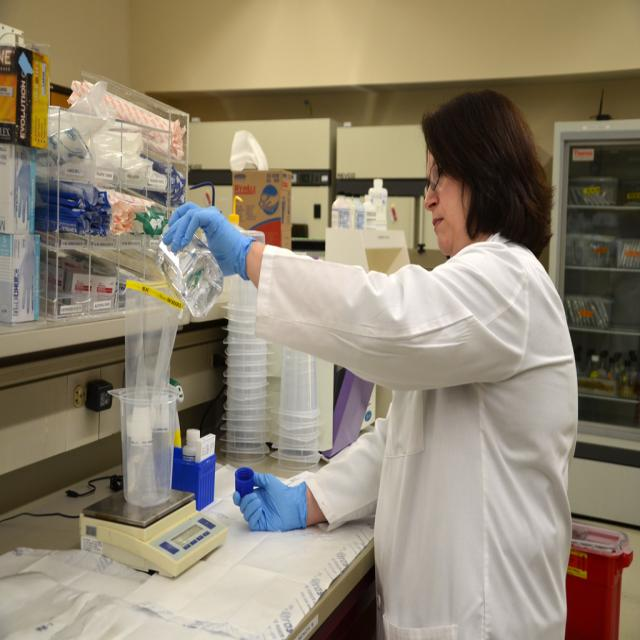Person: (163, 87, 578, 640)
